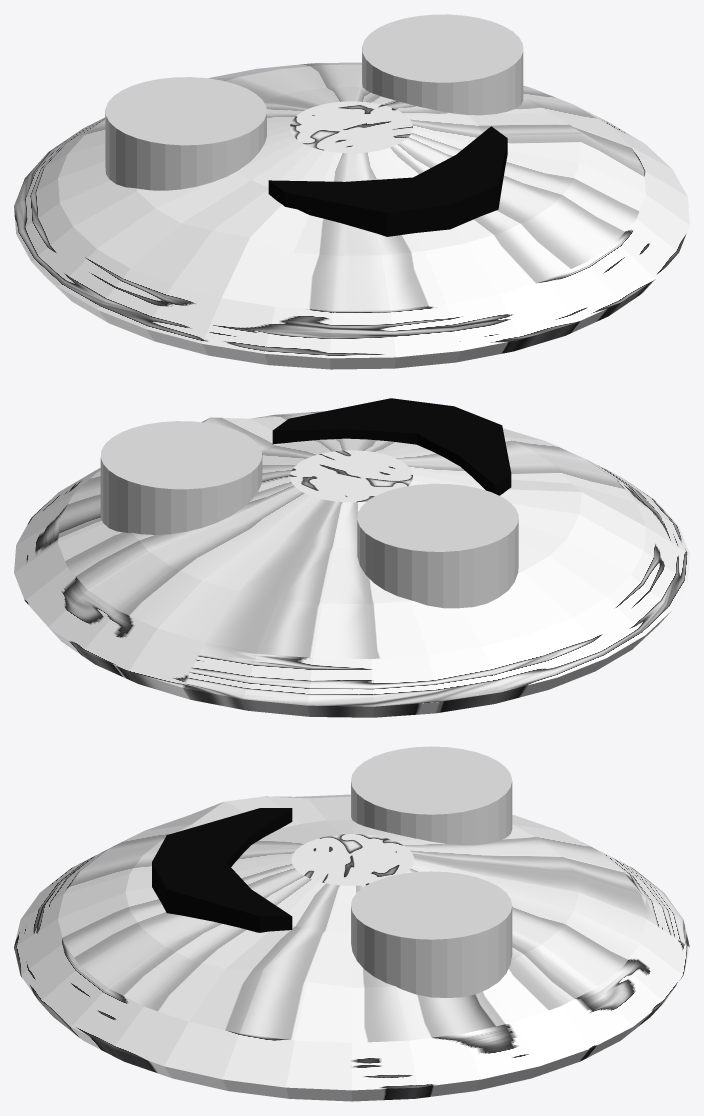
The model's file is Mask Creep.glb.
The picture shows the model from 3 angles, top to bottom: view 1: azimuth 30°, elevation 25°; view 2: azimuth 150°, elevation 25°; view 3: azimuth 270°, elevation 25°; orthographic projection.
Visible parts, largest first — view 1: Cylinder, Cylinder.001, Cylinder.002, Plane; view 2: Cylinder, Cylinder.001, Cylinder.002, Plane; view 3: Cylinder, Cylinder.002, Cylinder.001, Plane.
Part boxes in pixels (x1,y1,x2,y2): Cylinder: [14, 62, 689, 369]; Cylinder.001: [105, 77, 266, 190]; Cylinder.002: [362, 14, 523, 115]; Plane: [268, 126, 507, 236]; Cylinder: [14, 411, 689, 717]; Cylinder.001: [357, 483, 518, 608]; Cylinder.002: [100, 421, 262, 534]; Plane: [272, 398, 511, 495]; Cylinder: [14, 794, 689, 1101]; Cylinder.002: [351, 871, 512, 997]; Cylinder.001: [351, 746, 512, 845]; Plane: [152, 808, 292, 932].
Bounding box in the file's own units: 2 × 0.4776 × 2.
2 materials, 1 textured.
